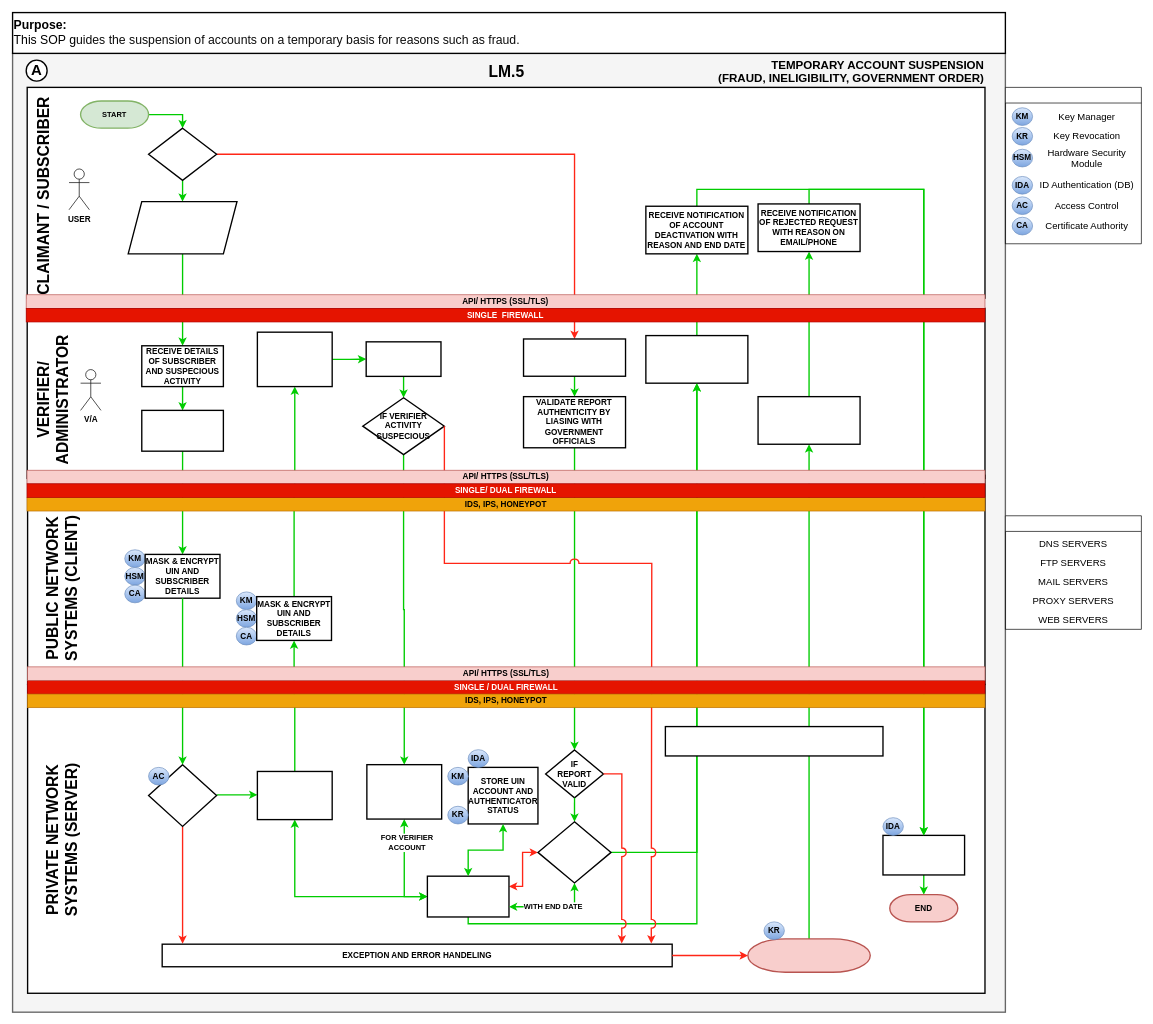
Image size: 1153x1024. Some labels were removed from this diagram. The box of each missing label's shape, as (x1, y1, x2, y2) in pixels:
DEACTIVATE DID ACCOUNT AND AUTHENTICATORS: (426, 875, 509, 917)
IF REPORT WITH END DATE: (537, 821, 611, 883)
IF SUBSCRIBER REPORTS: (148, 127, 217, 181)
IF UIN AND ACTIVITY MATCH: (148, 764, 217, 827)
LEGEND: (1005, 87, 1141, 244)
LOGS THE PROCESS AND STATUS: (882, 834, 965, 875)
NOTIFICATION GENERATOR: (664, 726, 883, 756)
NOTIFY REPORTING PARTY/AUTHORITY FOR REJECTED REQUEST WITH REASON: (757, 396, 860, 445)
PUBLIC NETWORK: (1005, 515, 1141, 629)
RECALL SUBSCRIBER AUTHENTICATION ACCESS FOR THE VERIFIER: (256, 770, 333, 820)
RECEIVE DID ACOUNT REVOCATION/ TERMINATION SUCCESS NOTIFICATION: (645, 335, 748, 384)
RECEIVE GOVT./COURT ORDER TO REVOKE/TERMINATE: (523, 338, 626, 377)
REMOVE ACCESS FOR THE VERIFIER AND FLAG FOR FRAUD IN DATABASE: (366, 764, 442, 819)
REPORT FRAUD ACTIVITY VIA PHONELINE/ DID PORTAL: (127, 201, 237, 254)
REPORT VERIFIER AND ACTIVITY TO LOCAL AUTHORITY: (256, 331, 333, 387)
REVIEW ALL VERIFIER ACTIVITIES: (365, 341, 441, 377)
TERMINATE PROCESS: REJECT REQUEST: (747, 938, 871, 973)
VERIFY ACTIVITY IN DATABASE: (141, 409, 224, 452)
